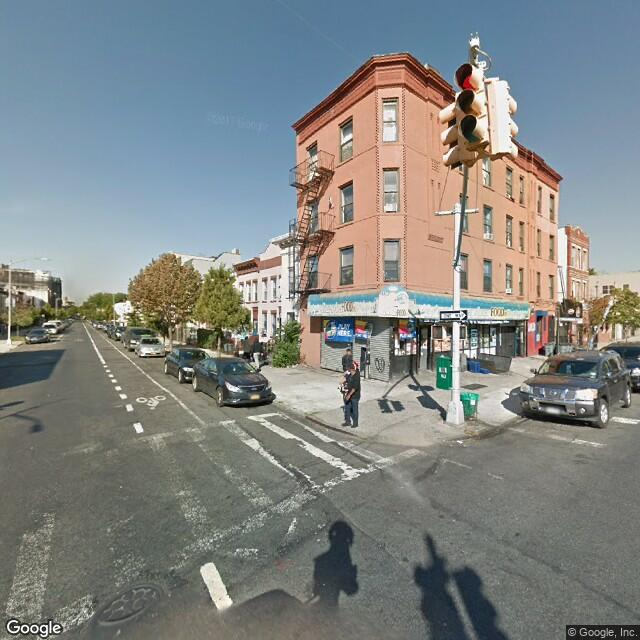litter: (441, 430, 478, 448)
